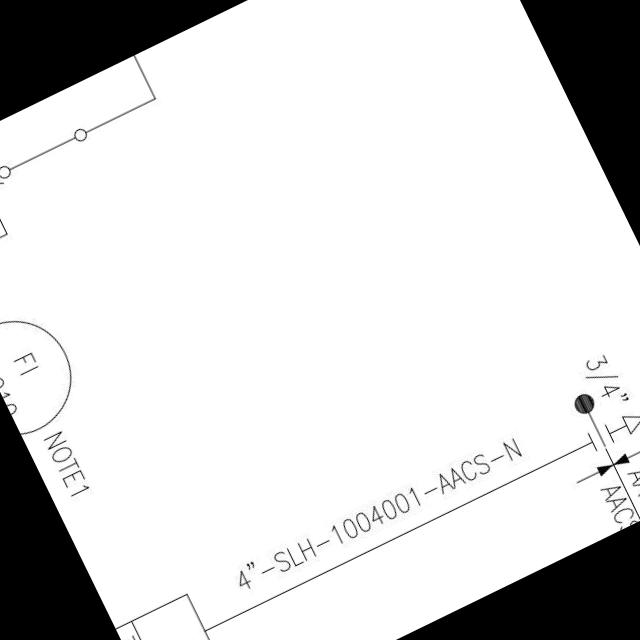GV: (616, 395, 640, 441)
